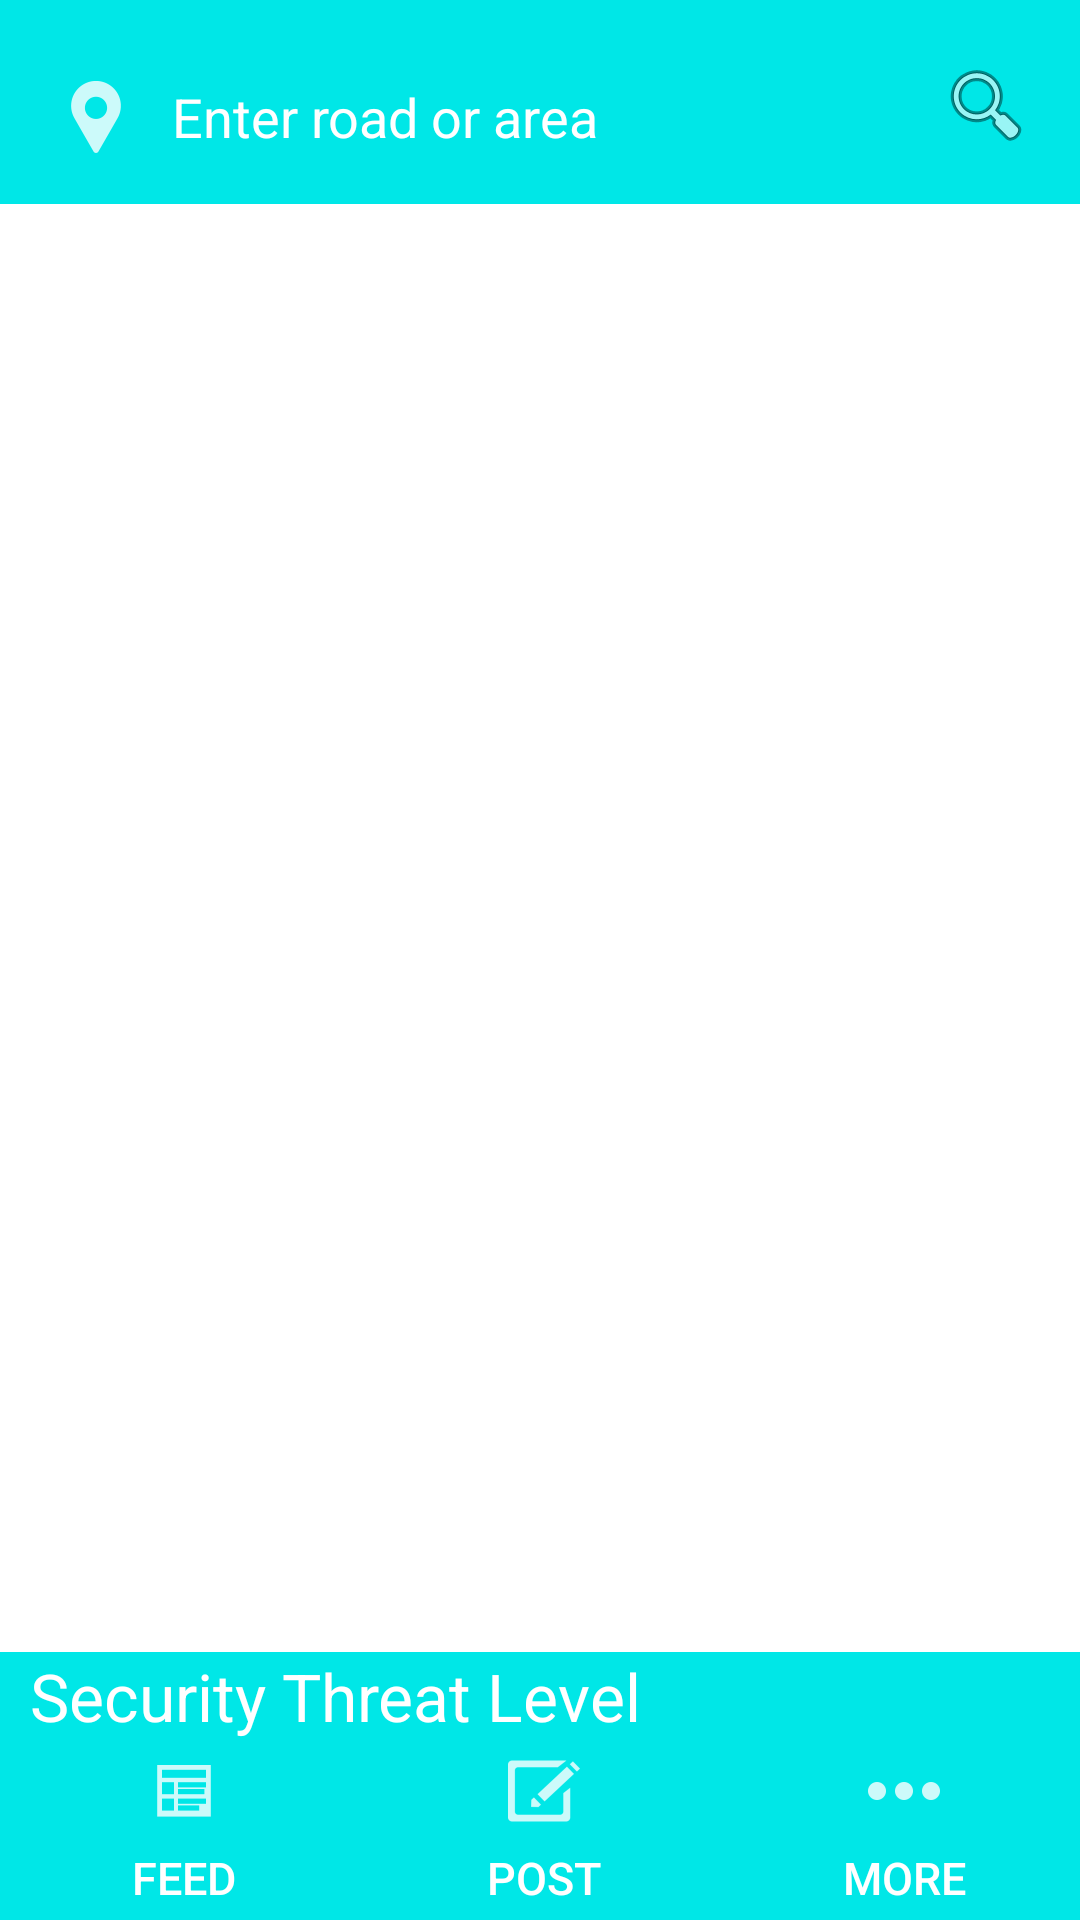

Where icons sit on this 1080 x 1920 app screen, as [x1=x1, y1=y1, x2=x2, y2=y2]:
search: [x1=950, y1=70, x2=1022, y2=141]
